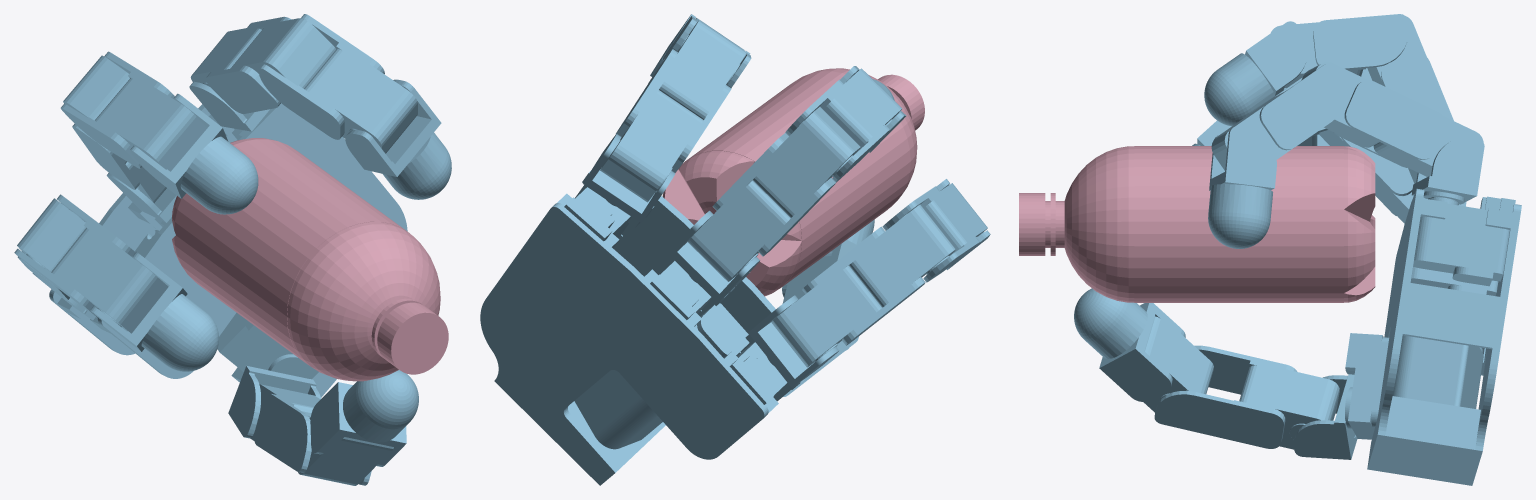
3 views of the same model, side by side, from view 1: azimuth 30°, elevation 25°; view 2: azimuth 150°, elevation 25°; view 3: azimuth 270°, elevation 25° (orthographic). The views are drawn at different scales.
Parts seen in each view (by area): view 1: world, water_bottle.stl; view 2: world, water_bottle.stl; view 3: world, water_bottle.stl.
Part boxes in pixels (<box>): world: <box>14,14,451,485</box>; water_bottle.stl: <box>172,138,448,381</box>; world: <box>480,14,990,485</box>; water_bottle.stl: <box>662,68,924,296</box>; world: <box>1074,14,1521,485</box>; water_bottle.stl: <box>1019,146,1375,302</box>.
Bounding box in the file's own units: 0.1753 × 0.175 × 0.1926.
